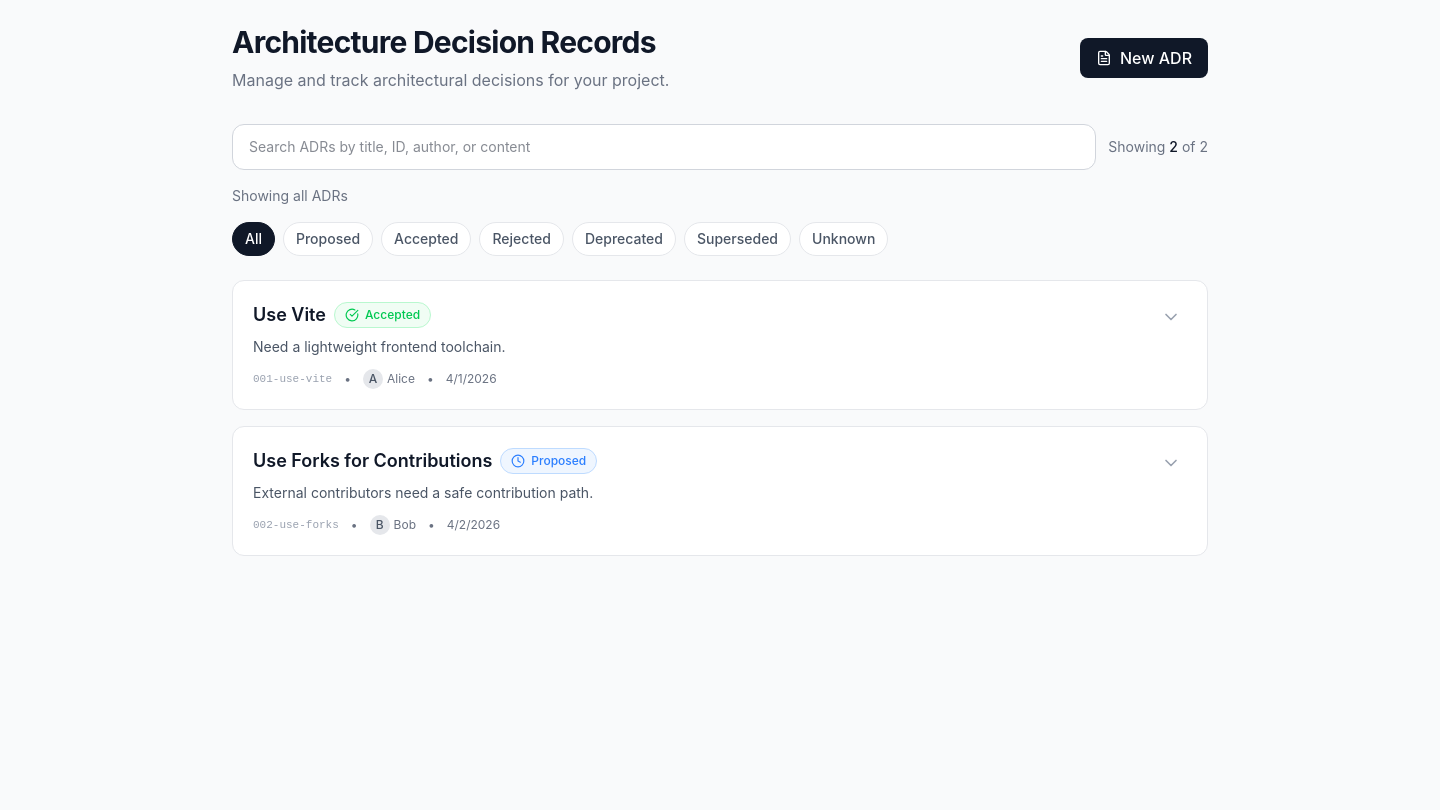
Test: AdrList › supports preview-only status changes without creating a merge request
The image size is (1440, 810).
Click the heading "Use Vite" at (290, 315), box [253, 301, 326, 329]
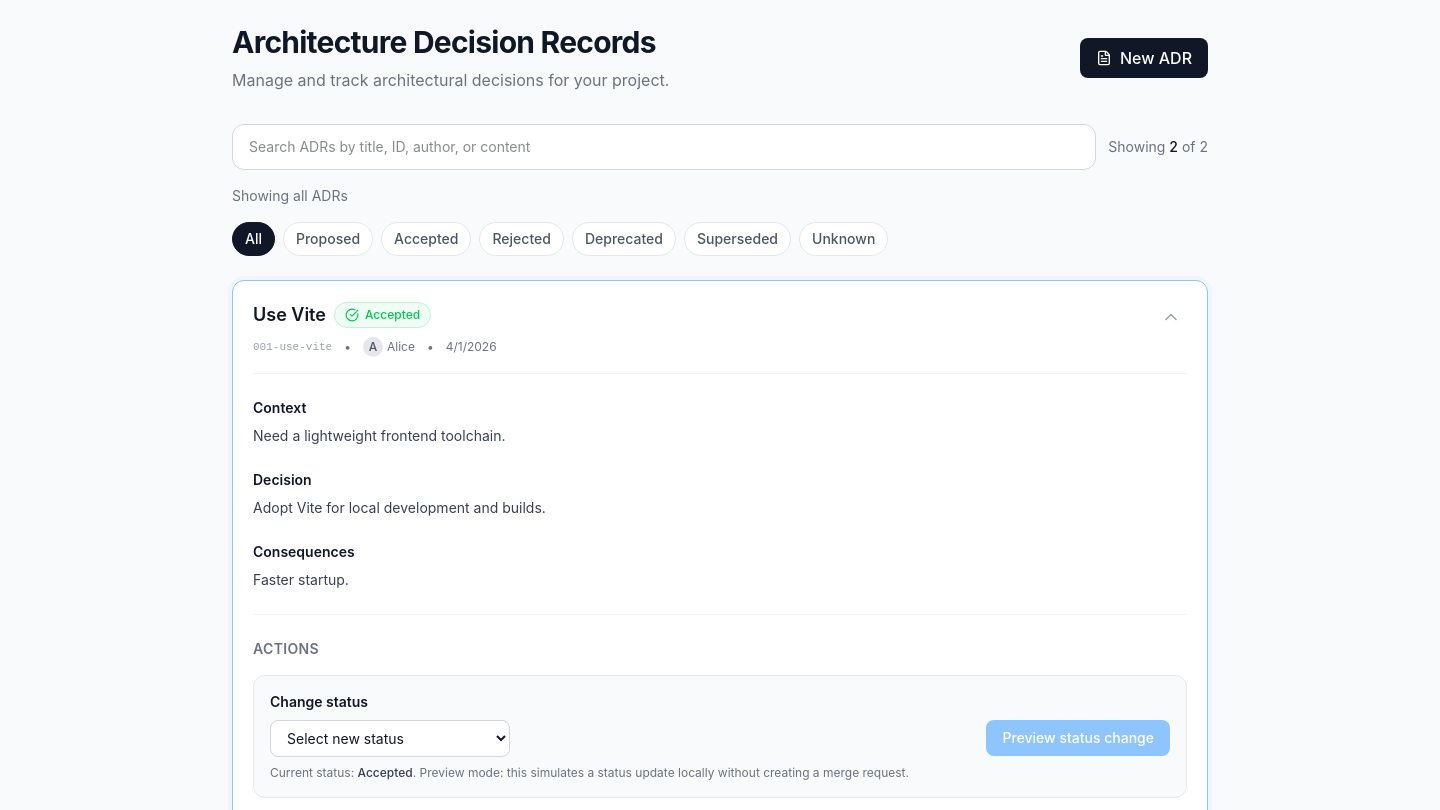
Expected: the dropdown labelled "Change status" shows "Select new status"
Expected: the button "Preview status change" is disabled, [986, 720, 1170, 756]
Select "Deprecated" in the dropdown labelled "Change status" at (390, 738), box [270, 720, 510, 757]
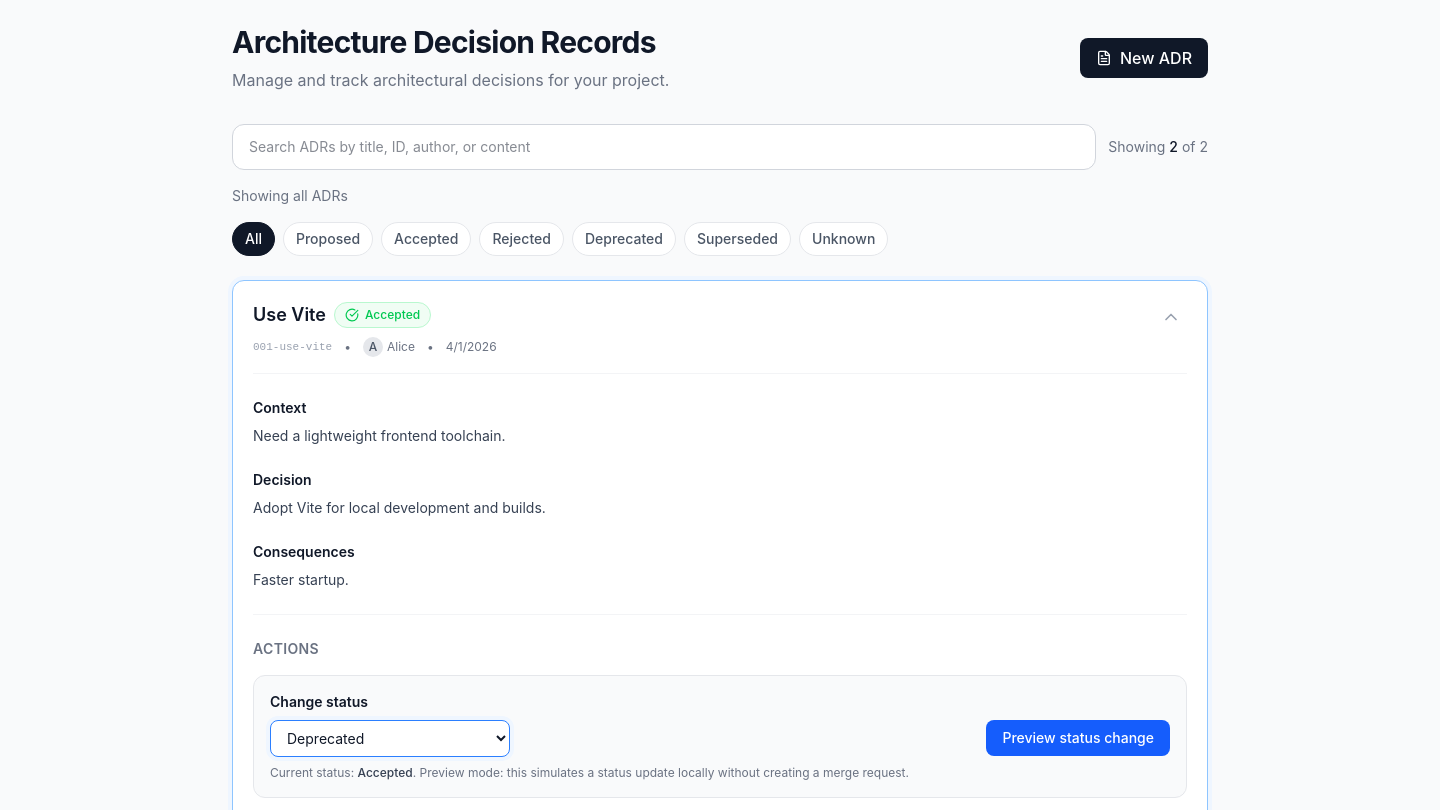
Expected: the button "Preview status change" is enabled
Click the button "Preview status change" at (1078, 738), box [986, 720, 1170, 756]
(page scrolled)
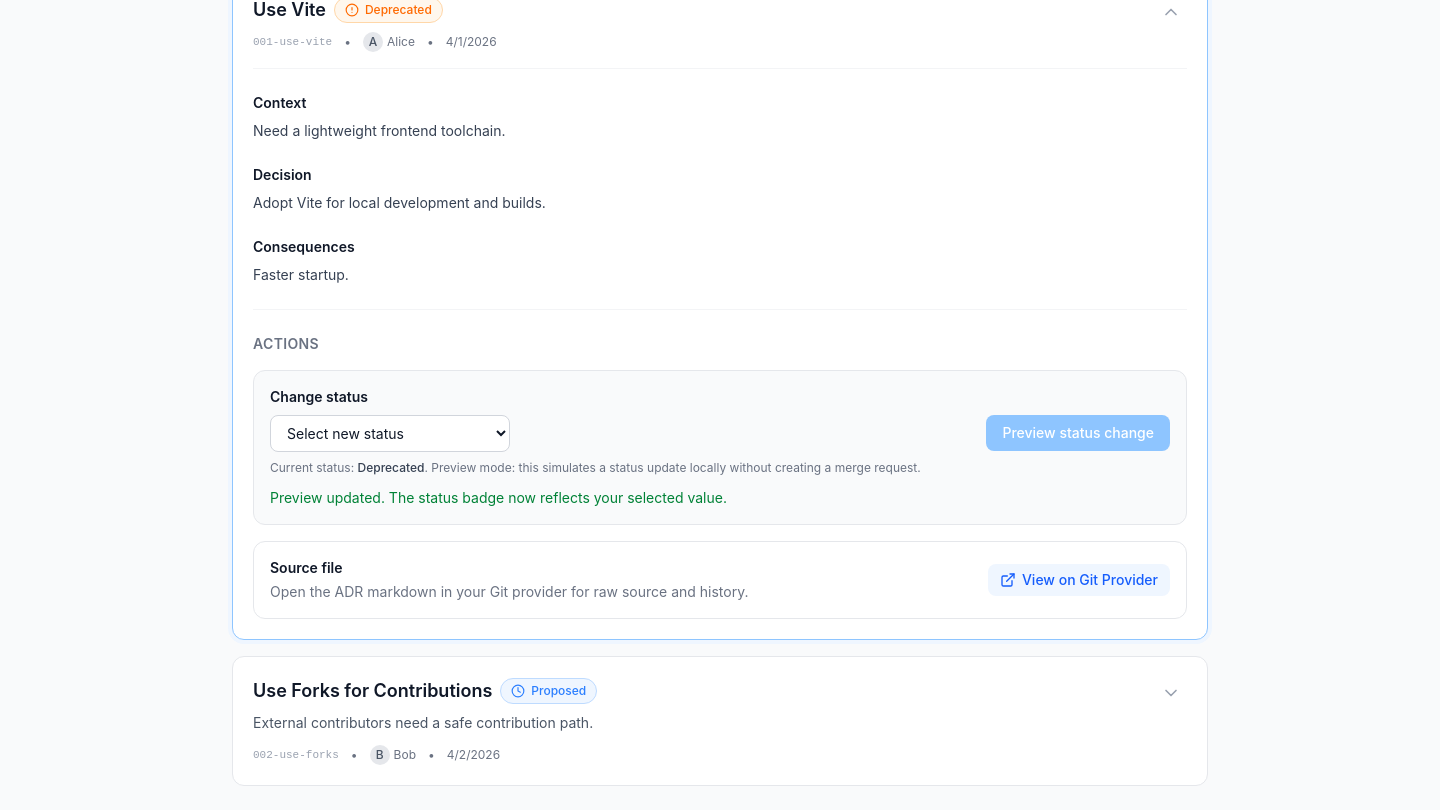
Expected: the text "Preview updated. The status badge now reflects your selected value." is shown, [270, 489, 727, 506]
